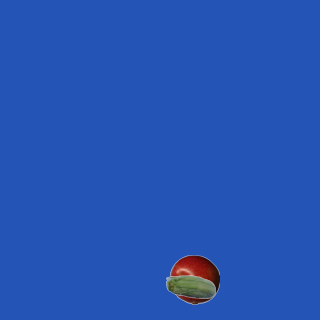Apple Braeburn: (169, 254, 219, 304)
Corn Husk: (165, 263, 215, 313)
